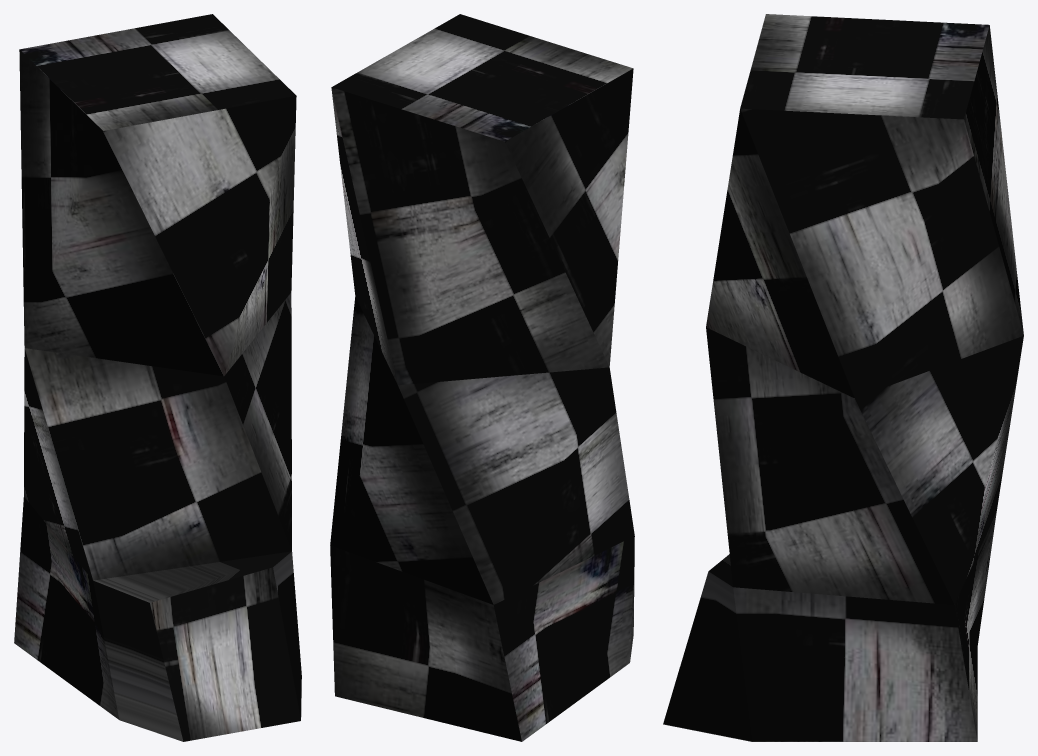
File: R2_Peninsula.obj
3 views of the same model, side by side, from view 1: azimuth 30°, elevation 25°; view 2: azimuth 150°, elevation 25°; view 3: azimuth 270°, elevation 25° (orthographic). The views are drawn at different scales.
Parts seen in each view (by area): view 1: Cube.001_Cube.002; view 2: Cube.001_Cube.002; view 3: Cube.001_Cube.002.
Part boxes in pixels (left/top/right/bottom): Cube.001_Cube.002: left=14, top=14, right=301, bottom=741; Cube.001_Cube.002: left=330, top=14, right=634, bottom=741; Cube.001_Cube.002: left=663, top=14, right=1023, bottom=741.
Size of the model in its own units: 2.82 by 6.19 by 3.2.
Materials: 1 (1 with a texture image).
